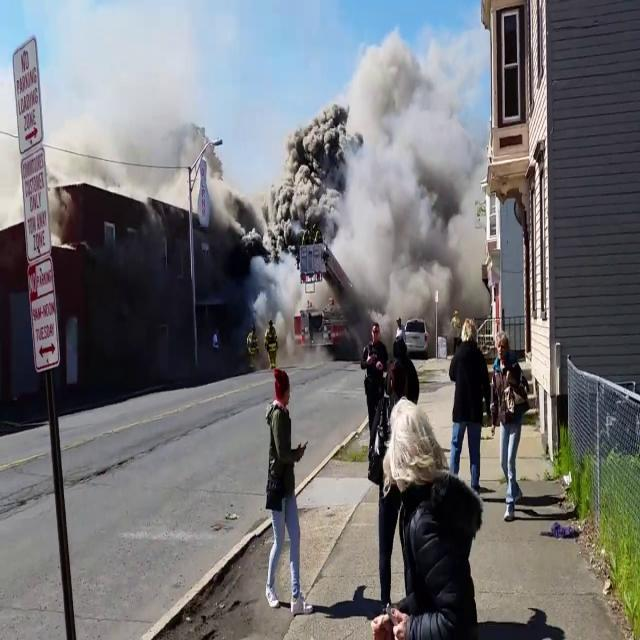Smoke: (246, 33, 488, 363)
